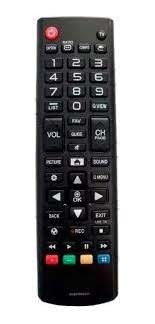remote control: (33, 18, 124, 307)
